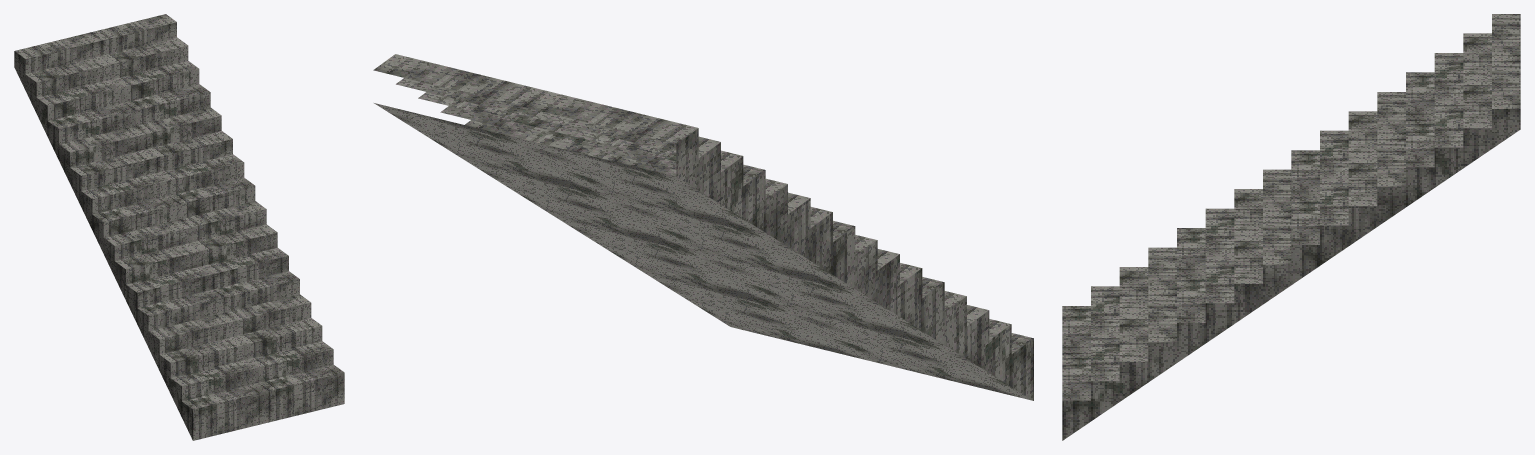
Rendered from stair_straight_core.gltf.
3 views of the same model, side by side, from view 1: azimuth 30°, elevation 25°; view 2: azimuth 150°, elevation 25°; view 3: azimuth 270°, elevation 25° (orthographic). The views are drawn at different scales.
Parts seen in each view (by area): view 1: stair_straight_core; view 2: stair_straight_core; view 3: stair_straight_core.
Part boxes in pixels (<box>): stair_straight_core: <box>14,14,344,440</box>; stair_straight_core: <box>373,54,1033,400</box>; stair_straight_core: <box>1062,14,1520,440</box>.
Size of what is drawn, in the model's own units: 1.96 by 3.2 by 4.
Materials: 2 (2 with a texture image).
